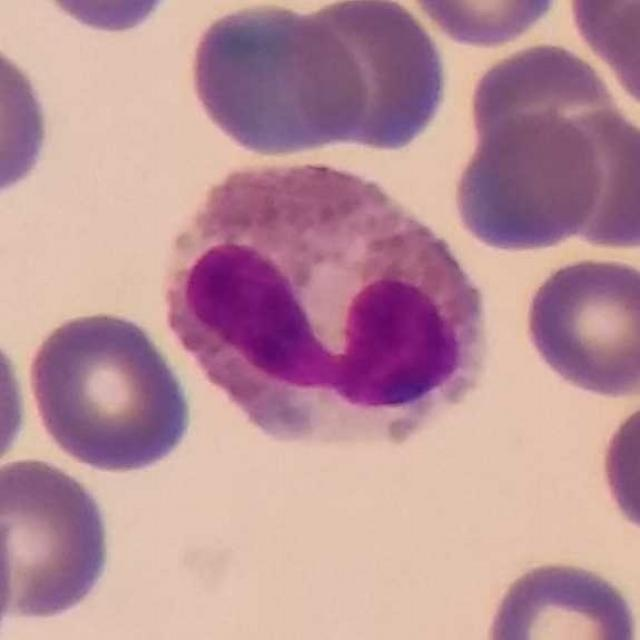eosino: (162, 157, 493, 463)
